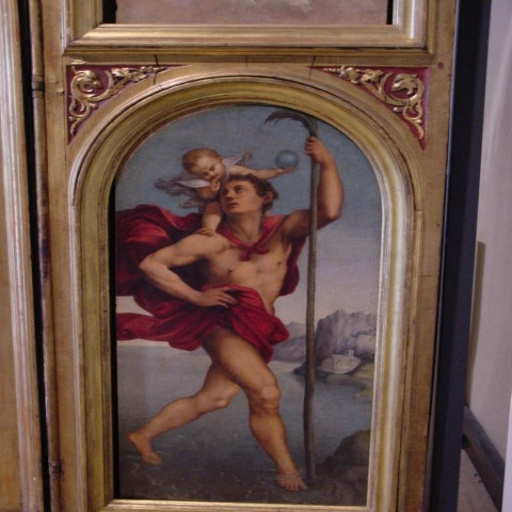hand: (195, 286, 238, 310), (306, 134, 328, 161), (194, 224, 219, 236), (275, 163, 293, 174)
